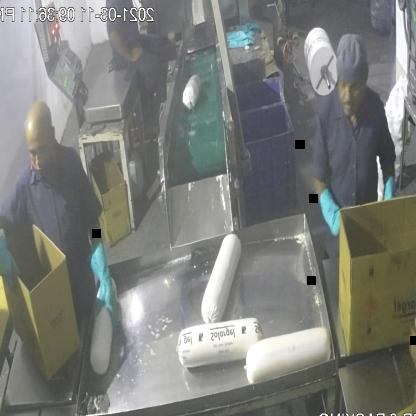glove: (87, 234, 123, 333), (321, 175, 344, 251), (0, 220, 20, 300)
no_glove: (106, 21, 143, 70), (401, 311, 416, 416)
